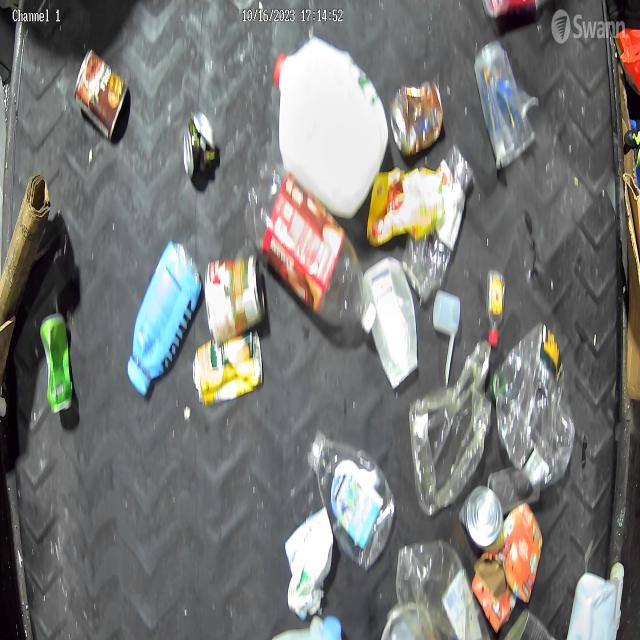can: (70, 39, 131, 148), (205, 248, 268, 338), (388, 76, 449, 168), (192, 342, 266, 407), (38, 311, 76, 423), (455, 479, 504, 557), (172, 110, 222, 184)
milk_jug: (272, 33, 387, 226), (272, 616, 357, 640)
plastic_bottle: (250, 163, 376, 341)
